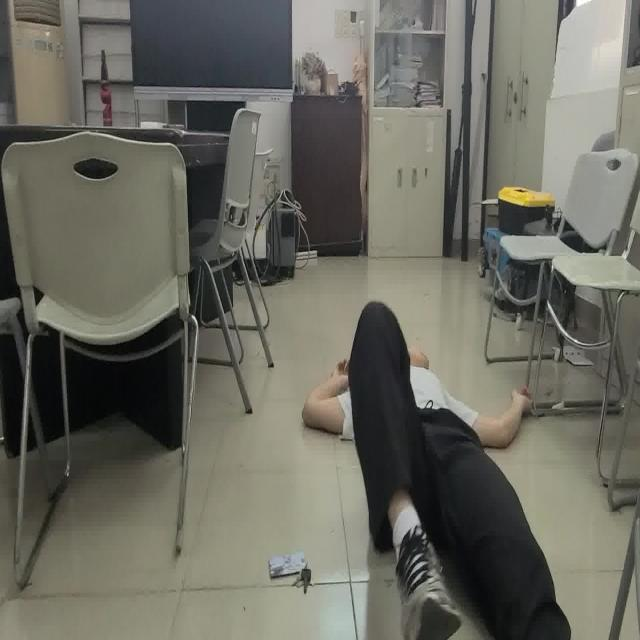Fall-Detected: (302, 299, 575, 640)
